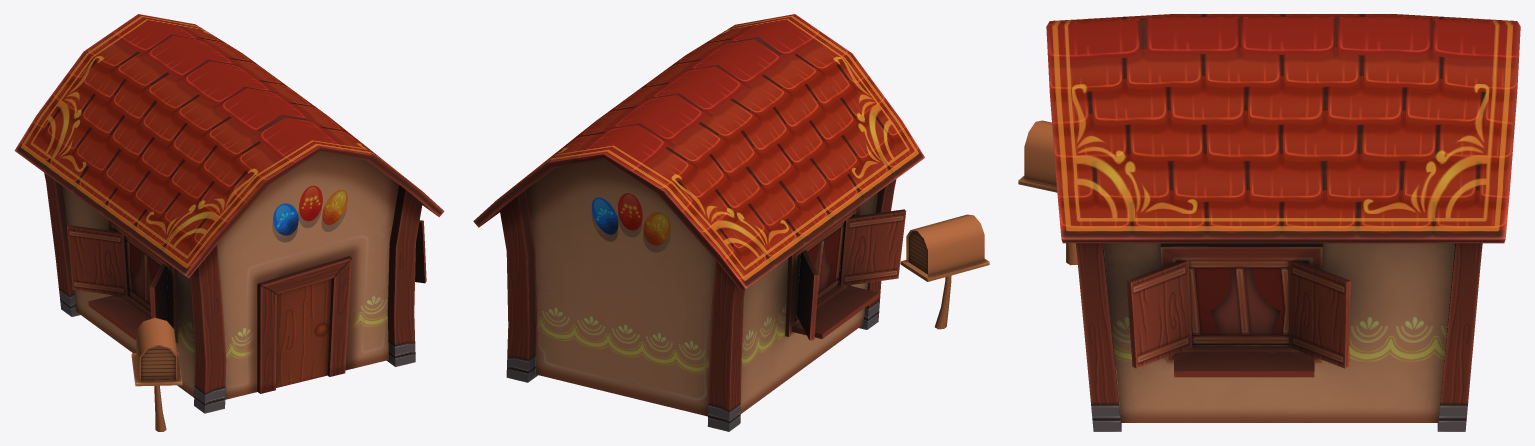
File: House_04.FBX
The picture shows the model from 3 angles, left to right: view 1: azimuth 30°, elevation 25°; view 2: azimuth 150°, elevation 25°; view 3: azimuth 270°, elevation 25°; orthographic projection. The views are drawn at different scales.
Parts seen in each view (by area): view 1: House_04; view 2: House_04; view 3: House_04.
Part boxes in pixels (left/top/right/bottom): House_04: left=14, top=14, right=444, bottom=431; House_04: left=473, top=14, right=989, bottom=431; House_04: left=1018, top=14, right=1520, bottom=431.
Bounding box in the file's own units: 1.99 × 1.53 × 2.04.
